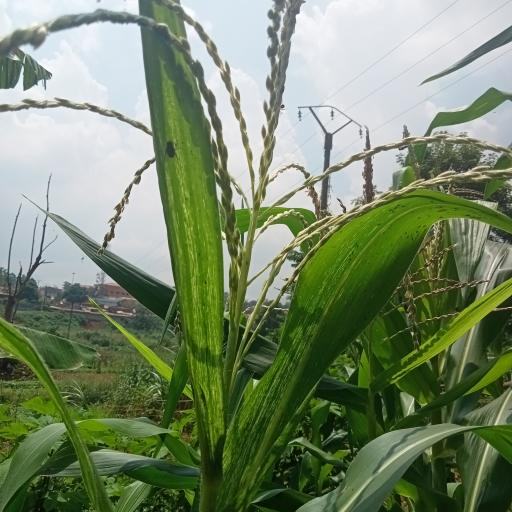Corn_Streak: (230, 190, 512, 500), (116, 0, 237, 480)
